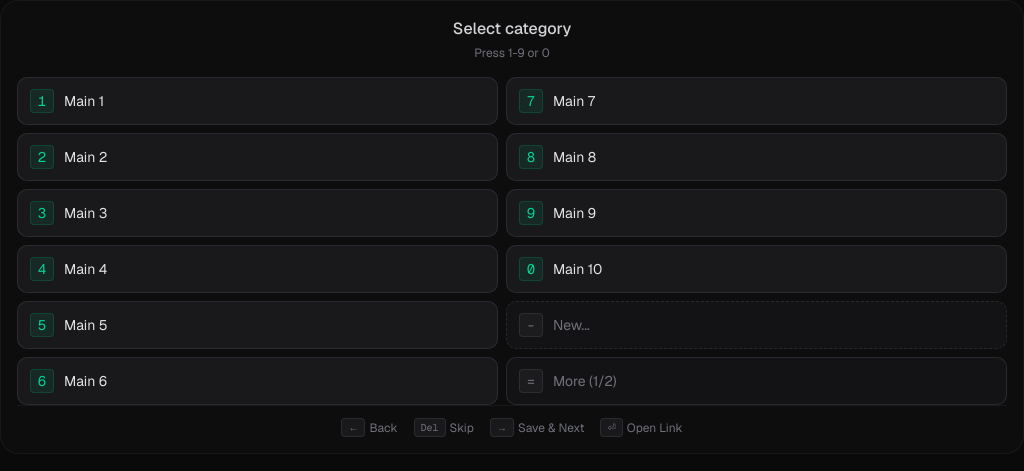
CategoryPicker › Main category pagination › clicking More button goes to next page
Click the button "= More (1/2)" at (573, 381), box x1=506 y1=357 x2=1007 y2=405
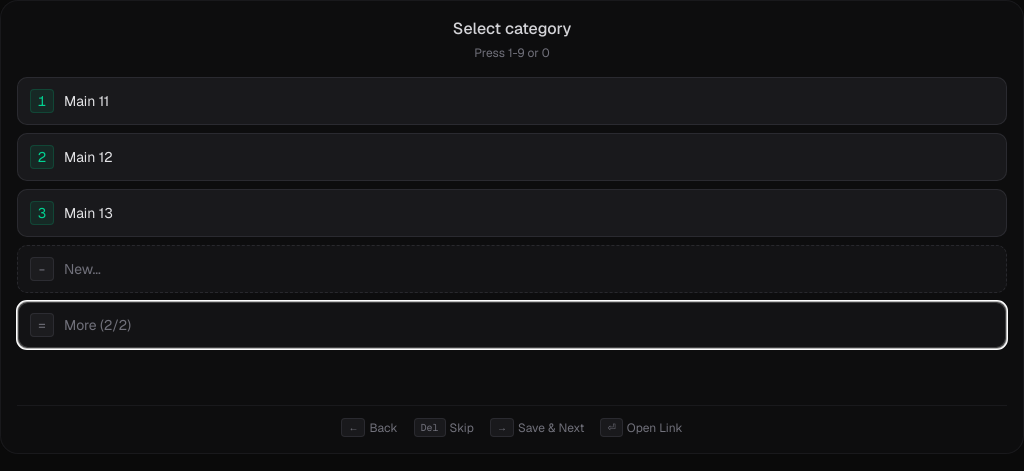
Result: the text "Main 11" is shown at x1=64 y1=91 x2=109 y2=111
